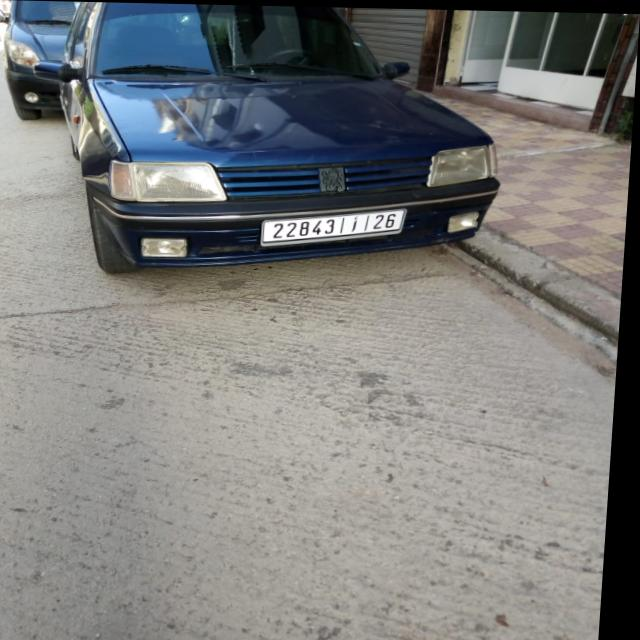License-Plate: (264, 207, 409, 245)
